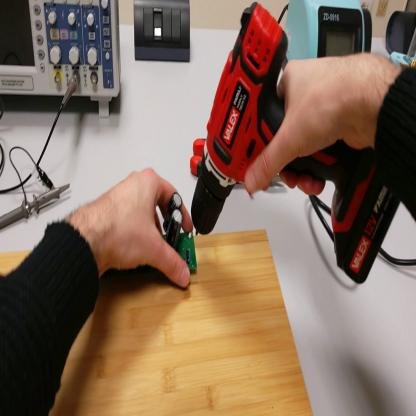electric screwdriver: (182, 3, 403, 288)
hand: (246, 51, 384, 196), (98, 167, 197, 293)
high voltage board: (109, 191, 196, 281)
oscilloscope: (2, 2, 122, 122)
oscilloscope probe tip: (2, 182, 74, 228)
socket: (387, 6, 416, 54), (364, 5, 376, 53)
welder base: (393, 30, 416, 69)
welder station: (284, 1, 366, 60)
working area: (1, 232, 313, 416)
